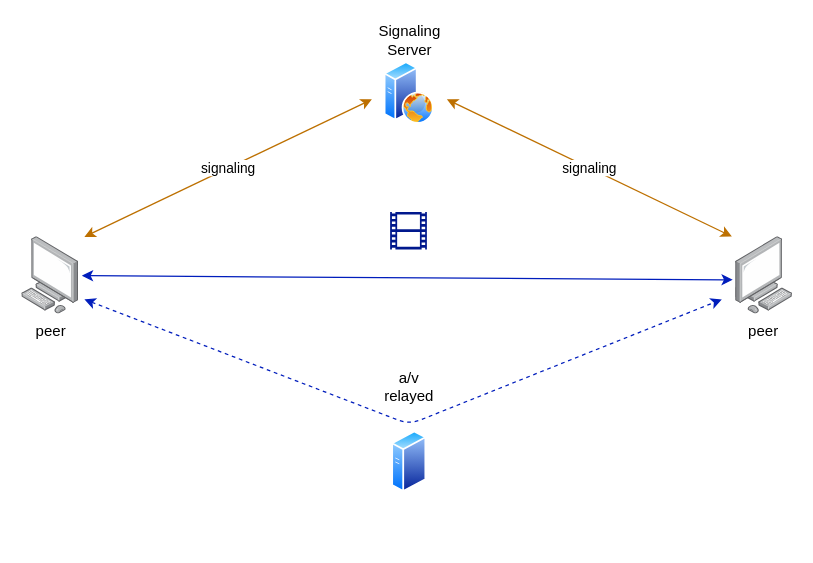
The diagram is 813 pixels wide and 563 high, and some of its shapes have lost their labels. Here are the shapes that lost their labels. From the top down, the centre of each, then its label:
At [408,230]: "audio/video".
At [408,461]: "STUN/TURN Server".
